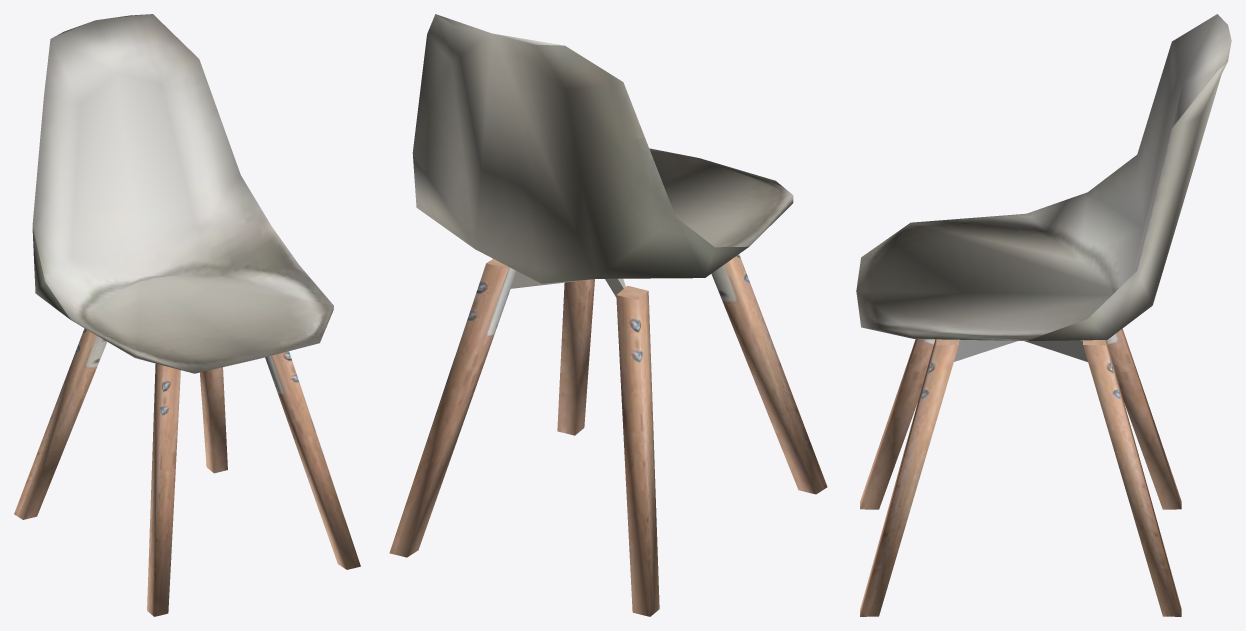
File: chair_white.glb
3 renders of one model, left to right at view 1: azimuth 30°, elevation 25°; view 2: azimuth 150°, elevation 25°; view 3: azimuth 270°, elevation 25°, orthographic. The views are drawn at different scales.
Visible parts, largest first — view 1: chair_chair_0; view 2: chair_chair_0; view 3: chair_chair_0.
Boxes of the visible parts, x1,y1,x2,y2 form: chair_chair_0: (14, 14, 360, 616); chair_chair_0: (389, 14, 827, 616); chair_chair_0: (856, 14, 1231, 616).
Bounding box in the file's own units: 0.449 × 0.85 × 0.5577.
1 material, 1 textured.
